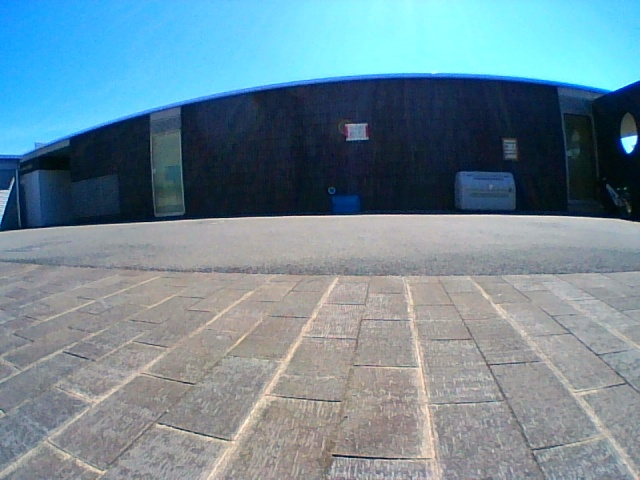blue_box: (333, 196, 358, 214)
